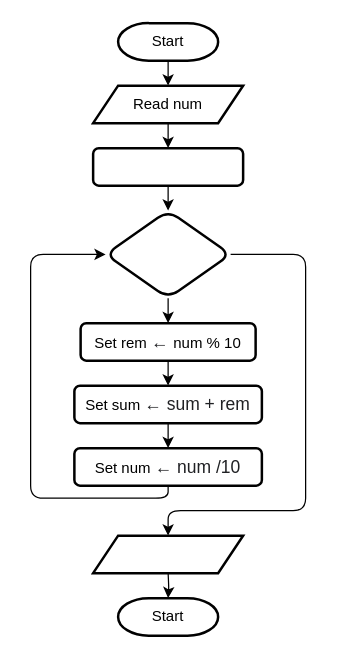
Some shapes in this 338 by 658 pixel diagram are drawn without their labels. The shapes that lost their labels are listed below. From the top down, each one's centre as x and y in pixels, then its label:
point 167,166: Set sum ← 0
point 167,254: num !=0
point 167,554: Print sum
